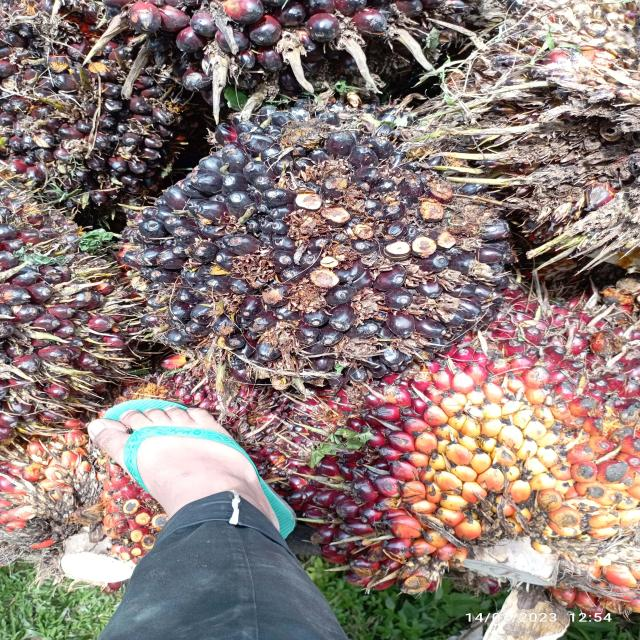fraksi 00: (94, 86, 523, 398)
fraksi 3: (239, 312, 640, 600)
